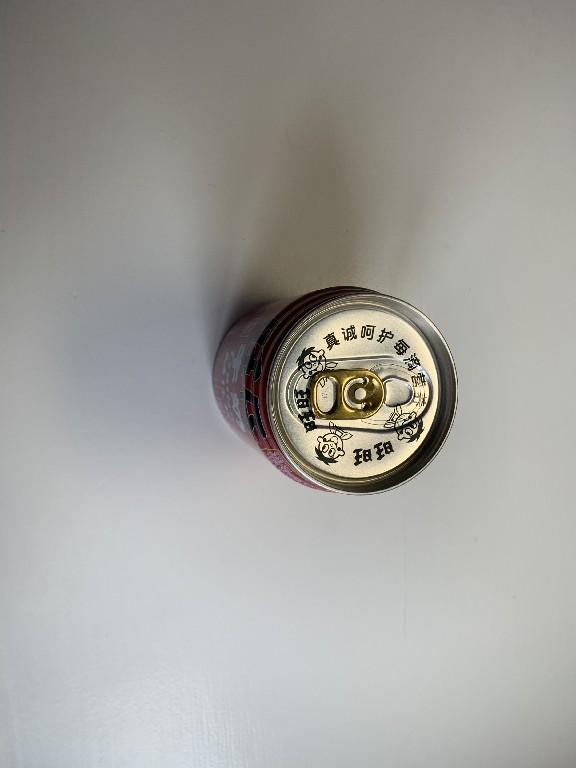can: (207, 279, 463, 501)
